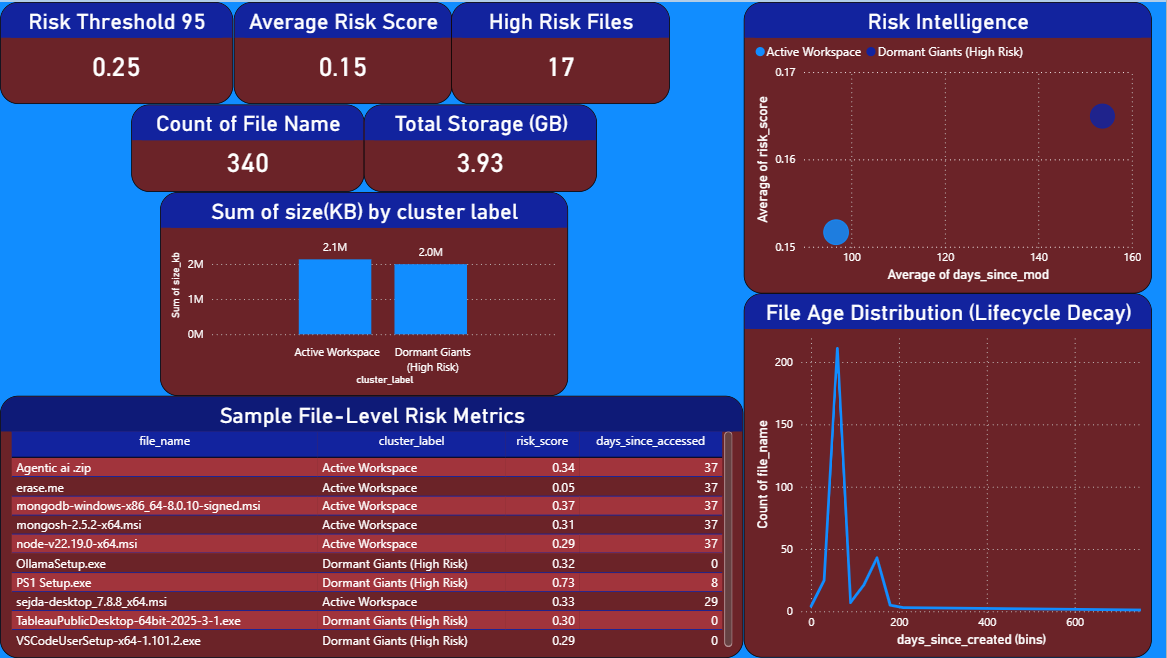

The page's visual inventory and layout, read from the dashboard file:
{"tool":"powerbi","page":{"name":"Executive Overview","canvas":[1280,720],"ordinal":0},"visuals":[{"type":"card","title":"Count of File Name ","fields":{"Values":["CountNonNull(intelligence_report.file_name)"]},"box":[144,112,256,96],"z":0},{"type":"card","title":"Total Storage (GB)","fields":{"Values":["intelligence_report.Total storage (GB)"]},"box":[400,112,256,96],"z":1000},{"type":"card","title":"Average Risk Score","fields":{"Values":["intelligence_report.Average Risk score"]},"box":[256,0,240,112],"z":2000},{"type":"card","title":"High Risk Files ","fields":{"Values":["intelligence_report.High Risk Files"]},"box":[496,0,240,112],"z":3000},{"type":"card","title":"Risk Threshold 95","fields":{"Values":["intelligence_report.Risk Threshold 95"]},"box":[0,0,256,112],"z":4000},{"type":"scatterChart","title":"Risk Intelligence","fields":{"X":["Avg(intelligence_report.days_since_mod)"],"Y":["Avg(intelligence_report.risk_score)"],"Size":["Sum(intelligence_report.size_kb)"],"Series":["intelligence_report.cluster_label"]},"box":[816,0,448,320],"z":5000},{"type":"columnChart","title":"Sum of size(KB) by cluster label","fields":{"Category":["intelligence_report.cluster_label"],"Y":["Sum(intelligence_report.size_kb)"]},"box":[176,208,448,224],"z":5001},{"type":"tableEx","title":"Sample File-Level Risk Metrics","fields":{"Values":["intelligence_report.file_name","intelligence_report.cluster_label","intelligence_report.risk_score","intelligence_report.days_since_accessed"]},"box":[0,432,816,288],"z":5002},{"type":"lineChart","title":"File Age Distribution (Lifecycle Decay)","fields":{"Category":["intelligence_report.days_since_created (bins)"],"Y":["CountNonNull(intelligence_report.file_name)"]},"box":[816,320,448,400],"z":5003}]}

Visuals, with their boxes in screenshot pixels (x1, y1, x2, y2), scaled from the page's 1280x720 canvas onto the 1167x658 screenshot:
"Count of File Name " card: 131/102/365/190
"Total Storage (GB)" card: 365/102/598/190
"Average Risk Score" card: 233/0/452/102
"High Risk Files " card: 452/0/671/102
"Risk Threshold 95" card: 0/0/233/102
"Risk Intelligence" scatterChart: 744/0/1152/292
"Sum of size(KB) by cluster label" columnChart: 160/190/569/395
"Sample File-Level Risk Metrics" tableEx: 0/395/744/657
"File Age Distribution (Lifecycle Decay)" lineChart: 744/292/1152/657
